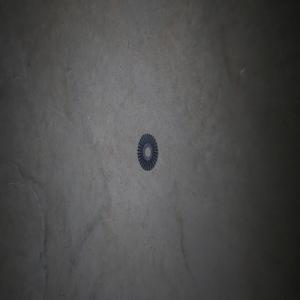Washer: (137, 133, 158, 170)
